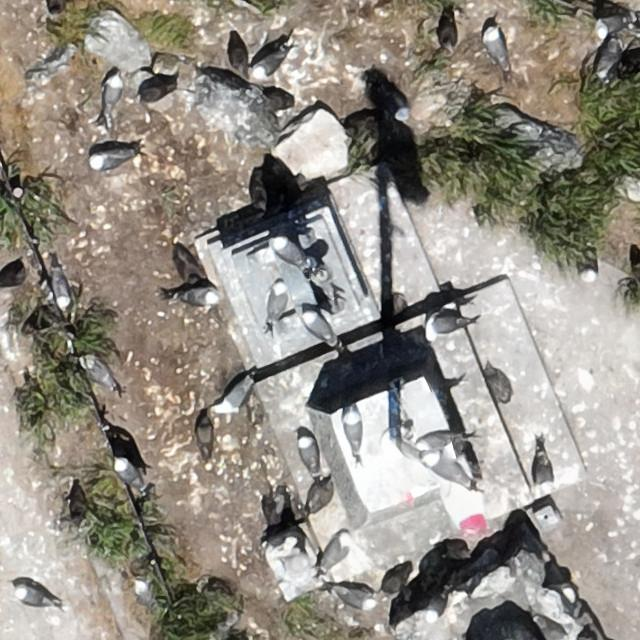umineko: (424, 456, 476, 487), (212, 374, 252, 412), (319, 531, 350, 576), (576, 232, 600, 280), (255, 47, 288, 77), (89, 361, 115, 388), (298, 436, 318, 471), (178, 288, 216, 306), (484, 30, 504, 64), (15, 587, 50, 606), (340, 588, 372, 608), (304, 312, 328, 338), (390, 90, 410, 120), (534, 455, 551, 489), (116, 459, 137, 486), (54, 274, 70, 308), (104, 76, 120, 110), (344, 414, 360, 448), (270, 284, 286, 317), (598, 16, 626, 34), (430, 314, 458, 332), (94, 153, 125, 169), (134, 580, 152, 606), (420, 433, 446, 448)
